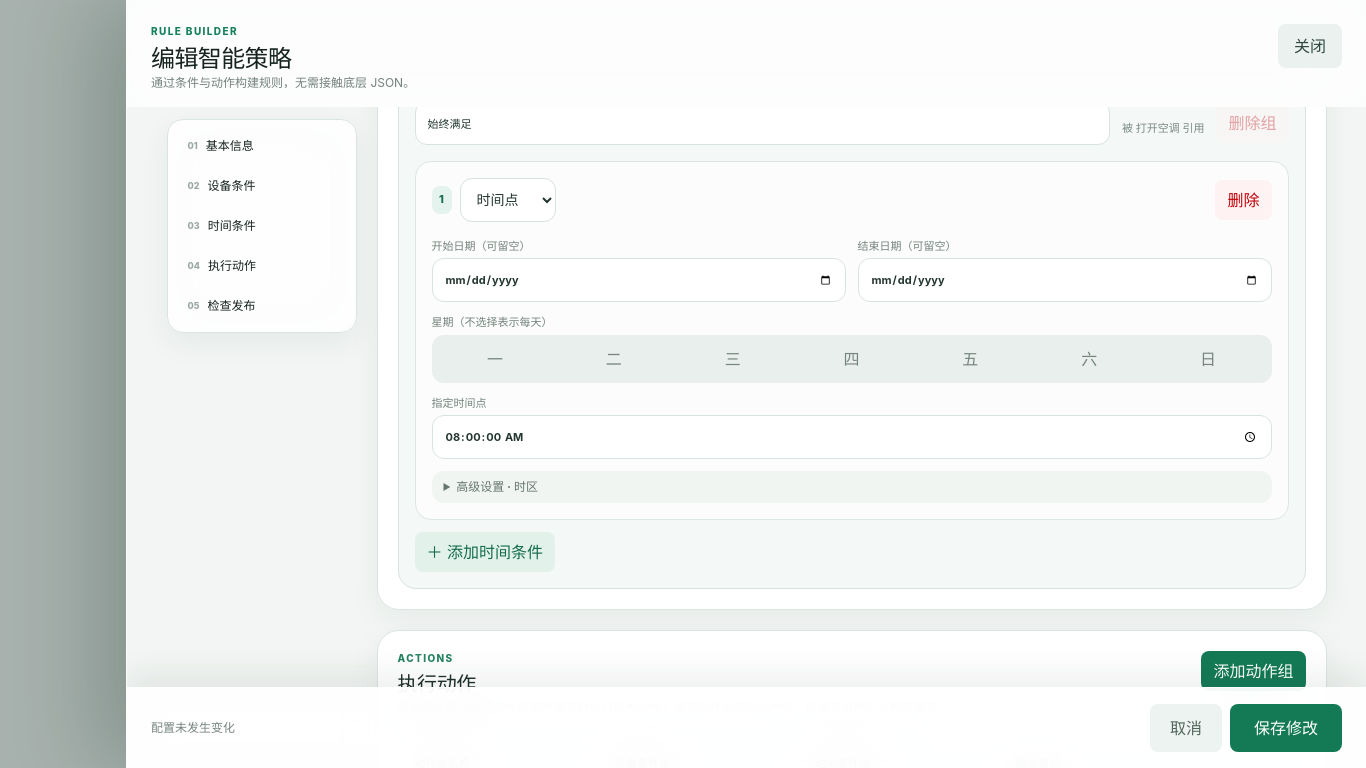
Test case: StrategyRevisionForm › edits existing time points and switches to a window
The image size is (1366, 768).
(page scrolled)
Expected: the text "指定时间点" is shown, [432,394,1272,459]
Replace the text in the time field showing "08:00:00" with "21:00:35". click: (852, 437)
box: [432,415,1272,459]
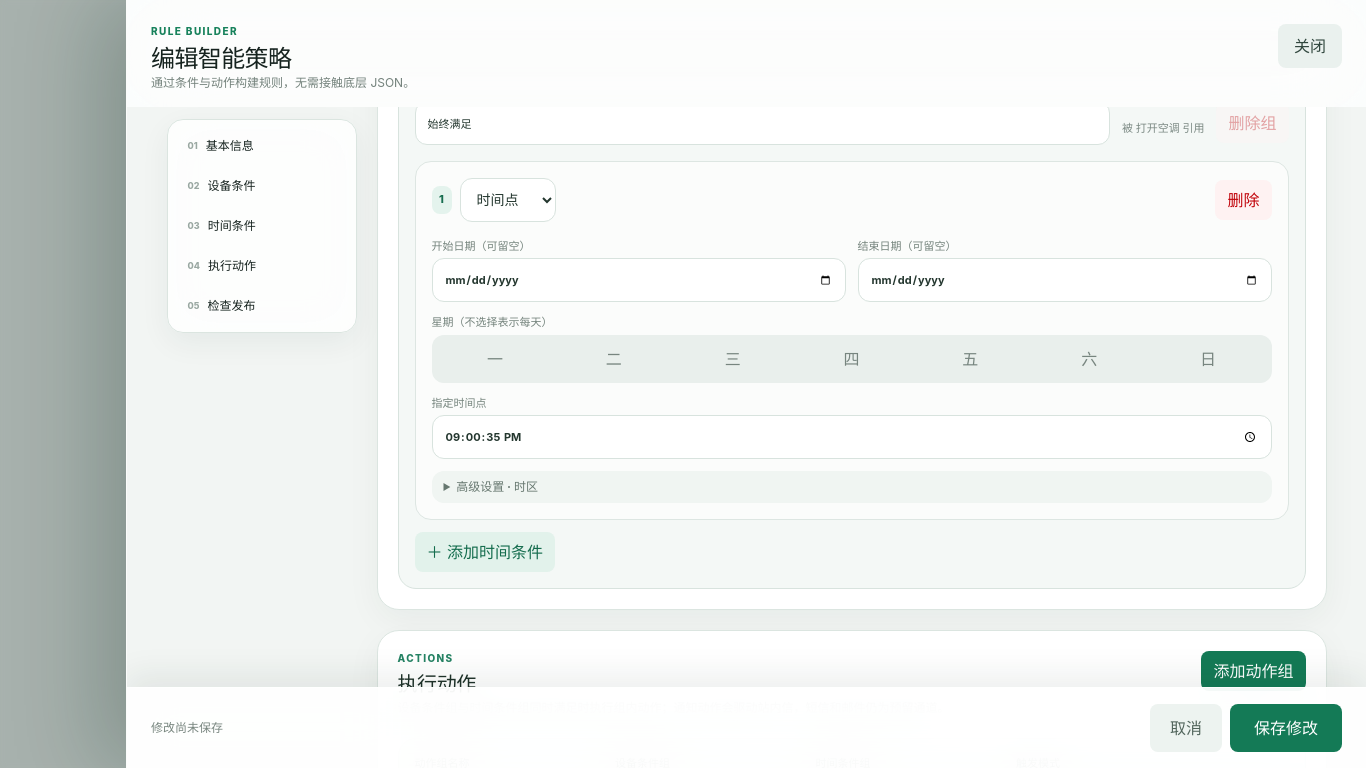
Select "时间段" in the dropdown named "时间条件类型". click: (508, 200)
box: [460,178,556,222]
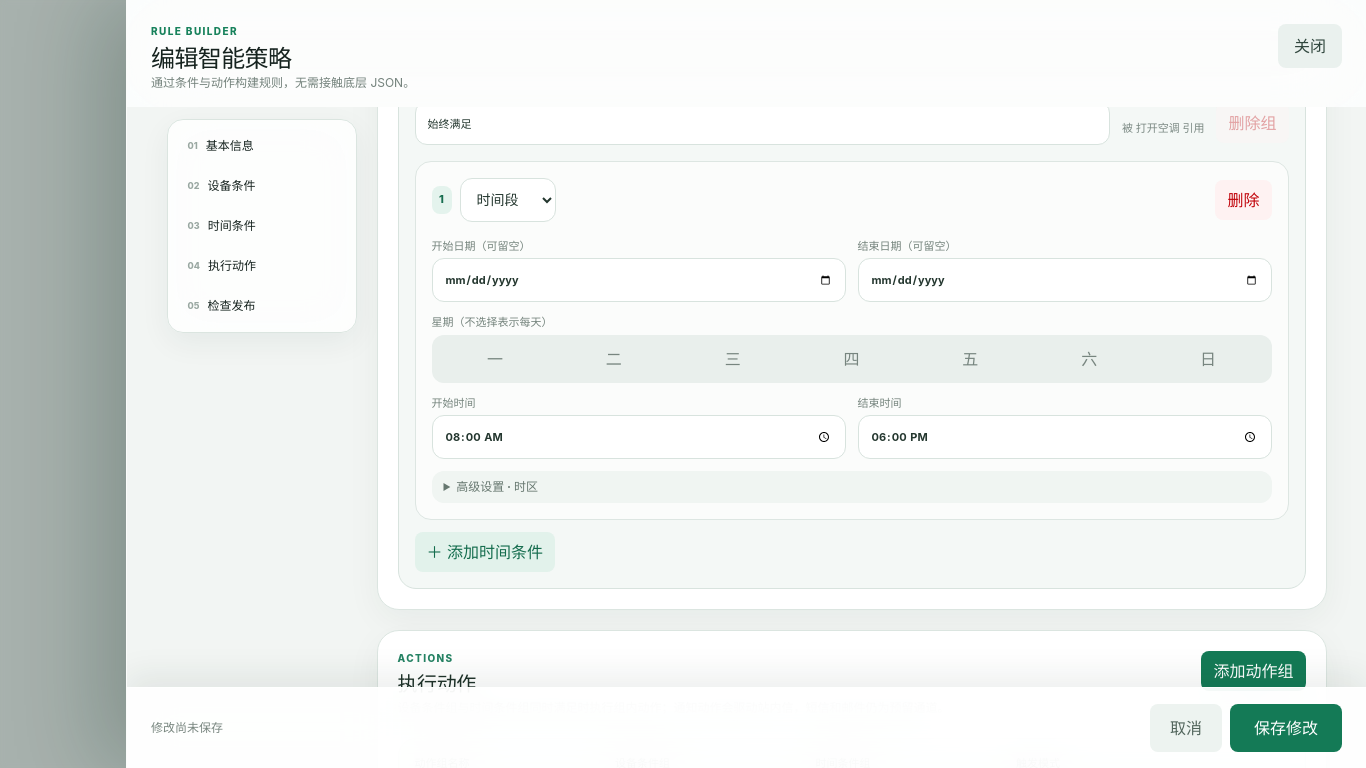
Expected: the text "开始时间" is shown, [432,394,846,459]
Expected: the text "结束时间" is shown, [858,394,1272,459]
Expected: the text "指定时间点" is gone
